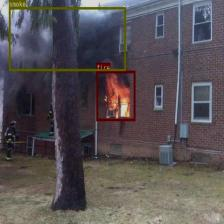fire: (96, 70, 135, 120)
smoke: (8, 7, 126, 70)
